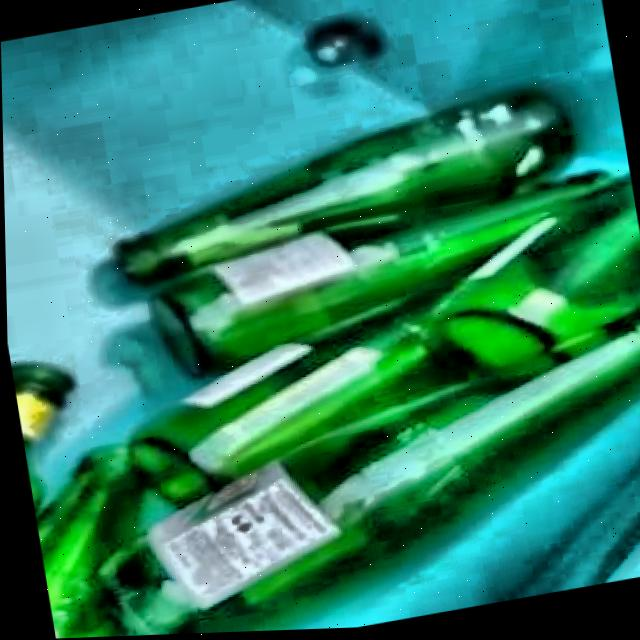glass: (10, 91, 640, 639)
